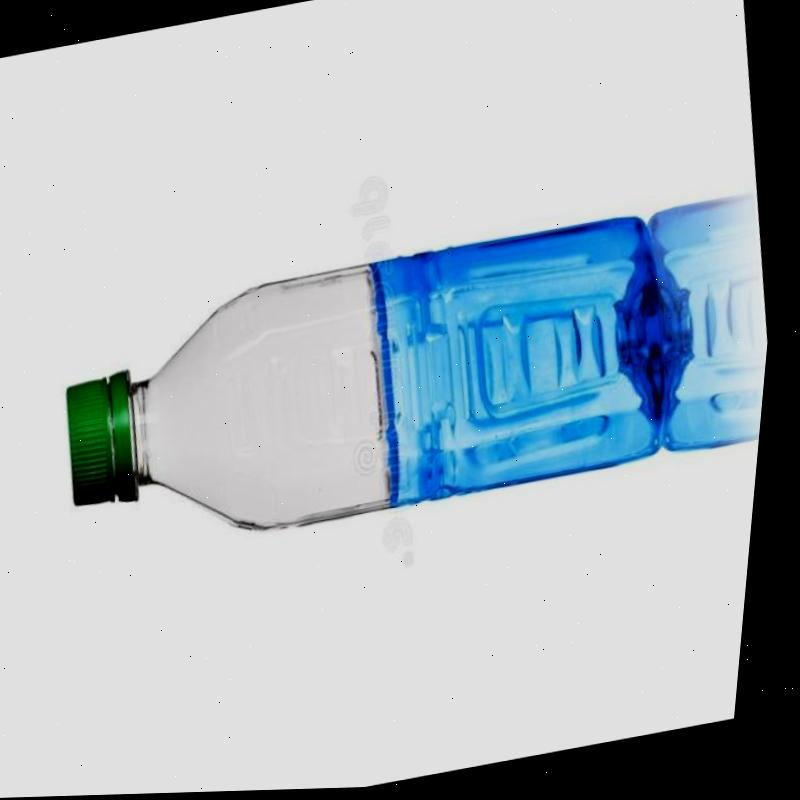botella: (47, 203, 708, 575)
